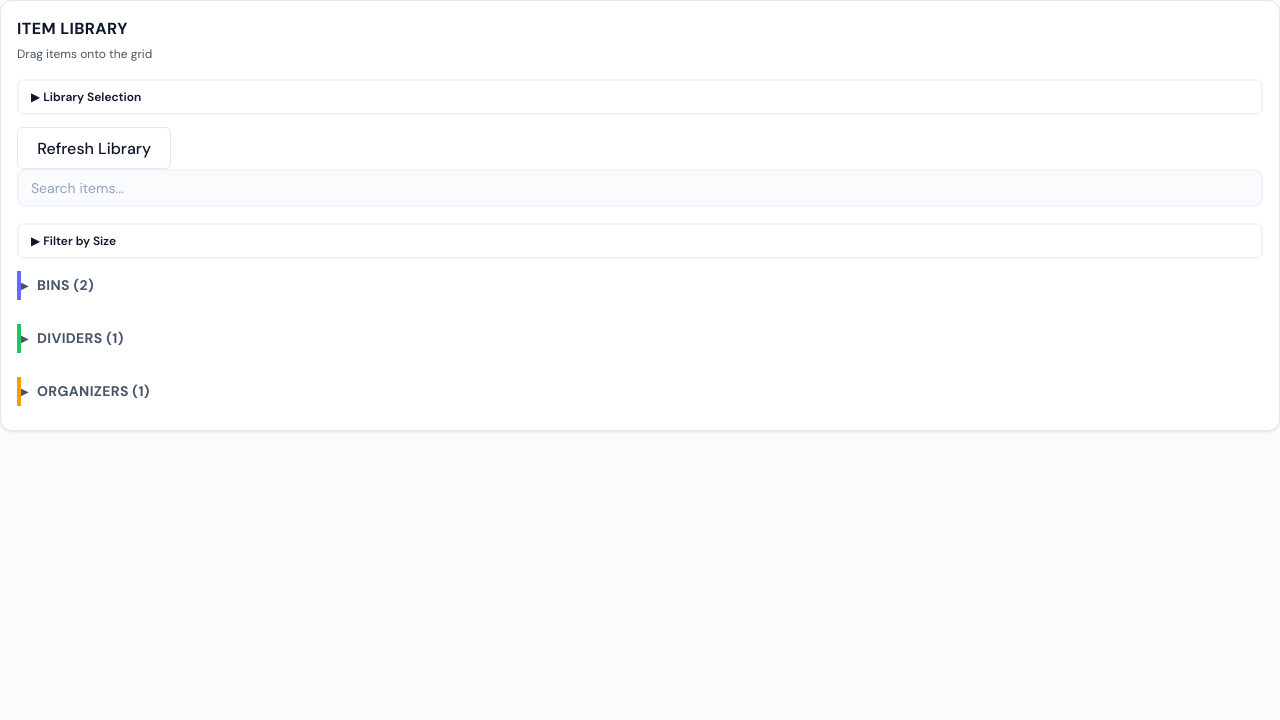
Test case: ItemLibrary › should expand library selector when toggle button clicked
Click the button "▶ Library Selection" at (91, 97), box [17,79,1263,115]
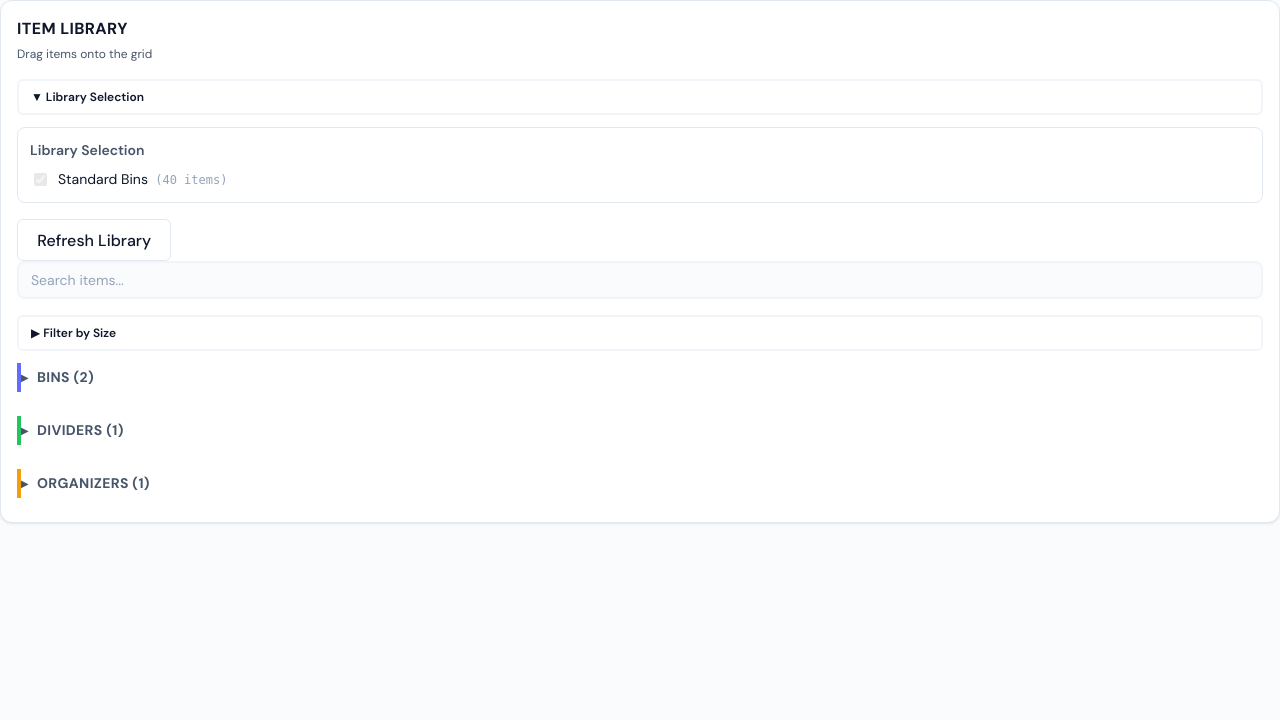
Now the element with class "library-selector" is shown, box [17,127,1263,203]
